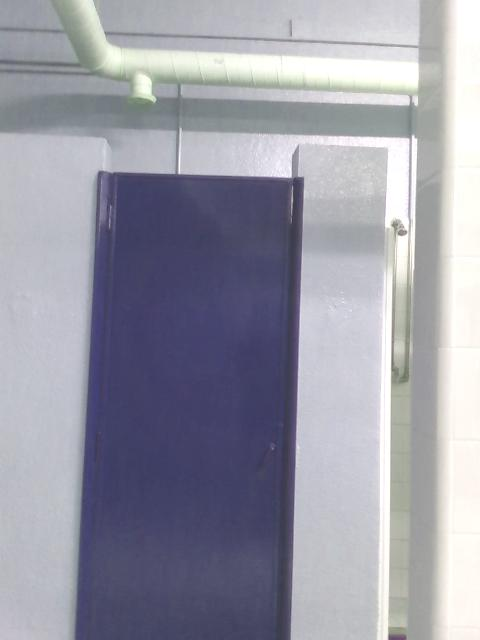closed_door: (73, 170, 303, 639)
